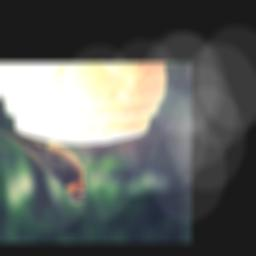Swallow: (0, 126, 87, 206)
